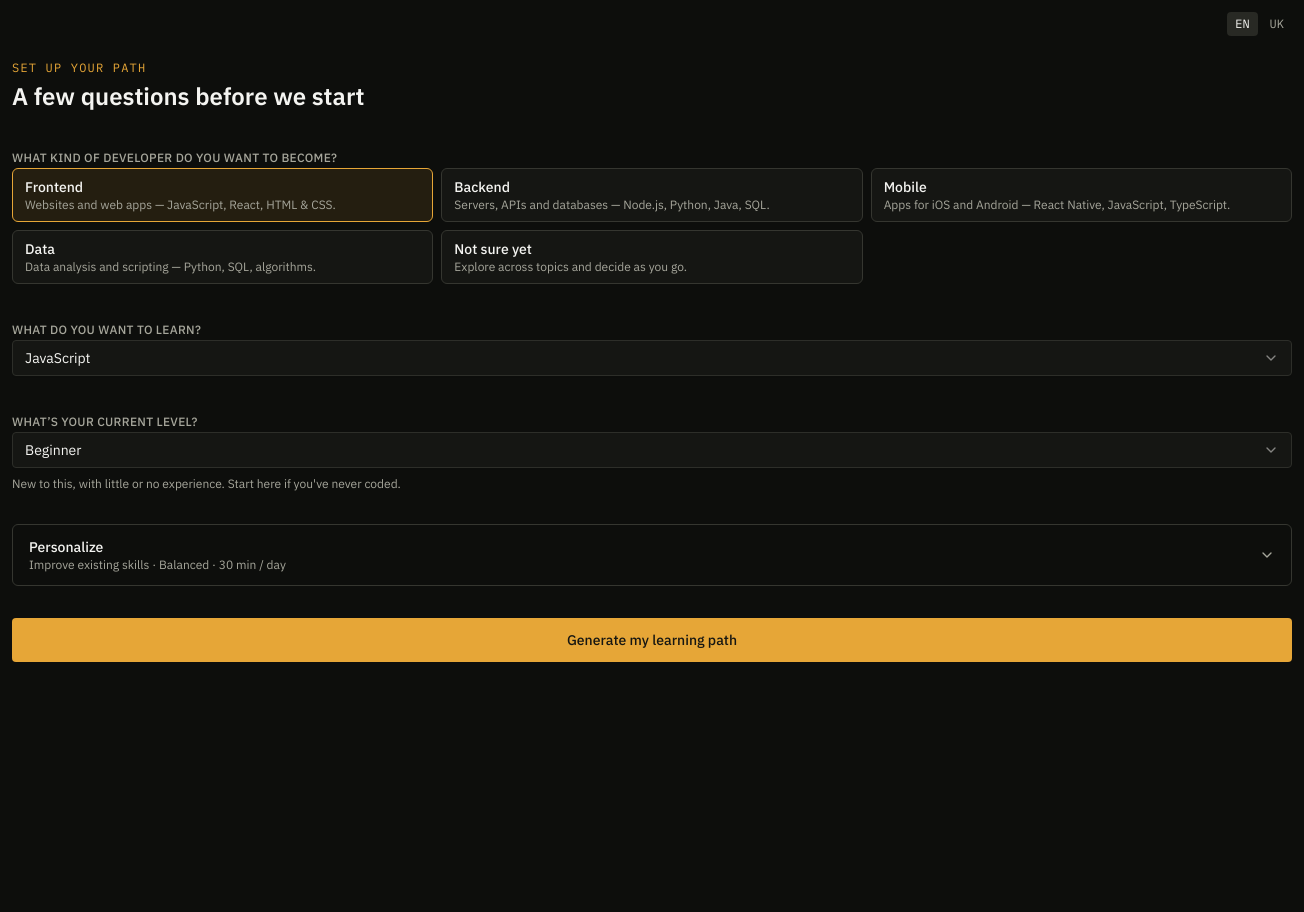
Test case: OnboardingFlow failure recovery › returns to the form with the error when the diagnostic can't be generated
The image size is (1304, 912).
Click the dropdown labelled "Beginner" at (53, 450), box [12,432,1292,468]
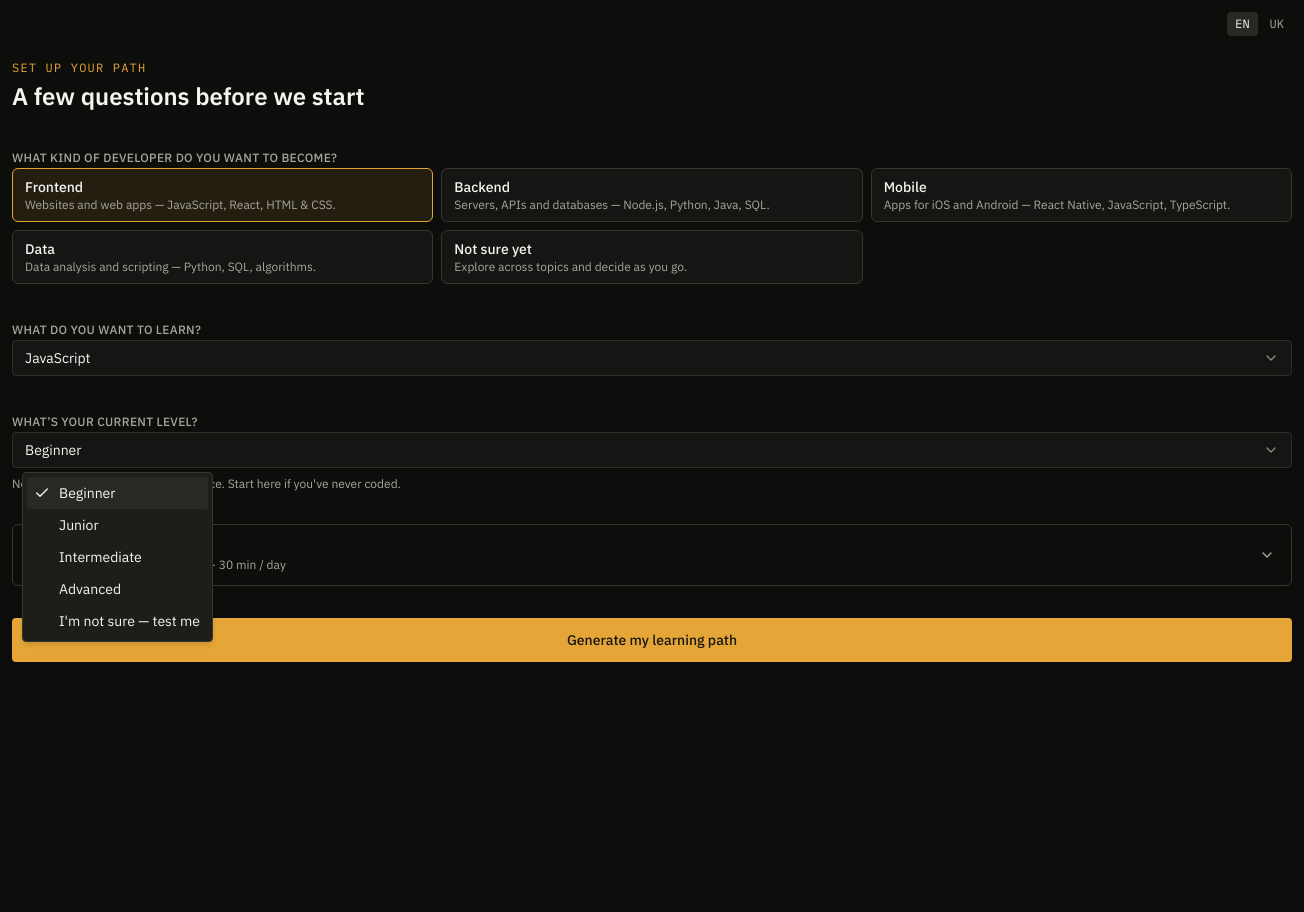
Click the option "I'm not sure — test me" at (130, 621), box [59,612,200,630]
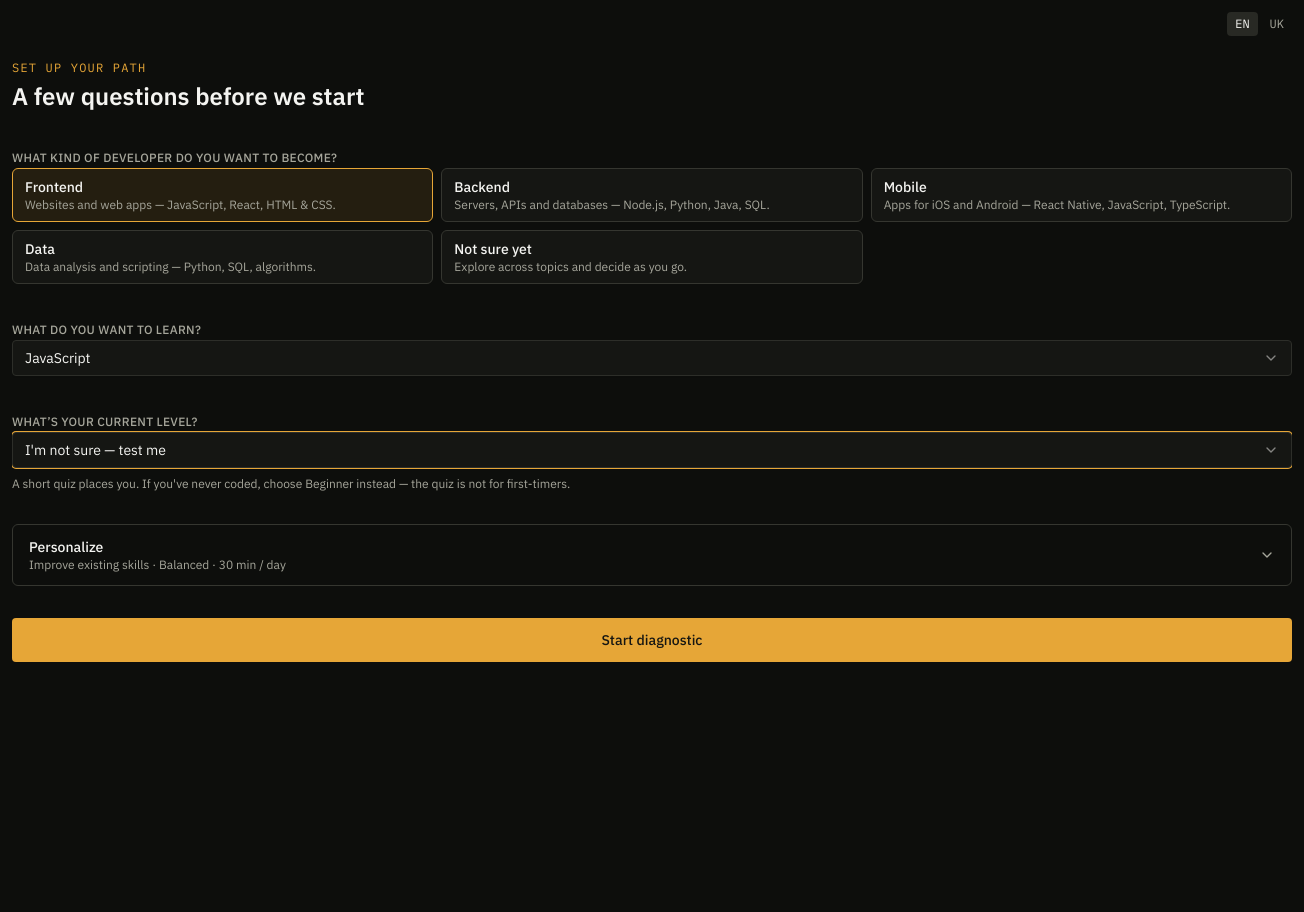
Expected: the list is gone
Click the button "Start diagnostic" at (652, 640), box [12,618,1292,662]
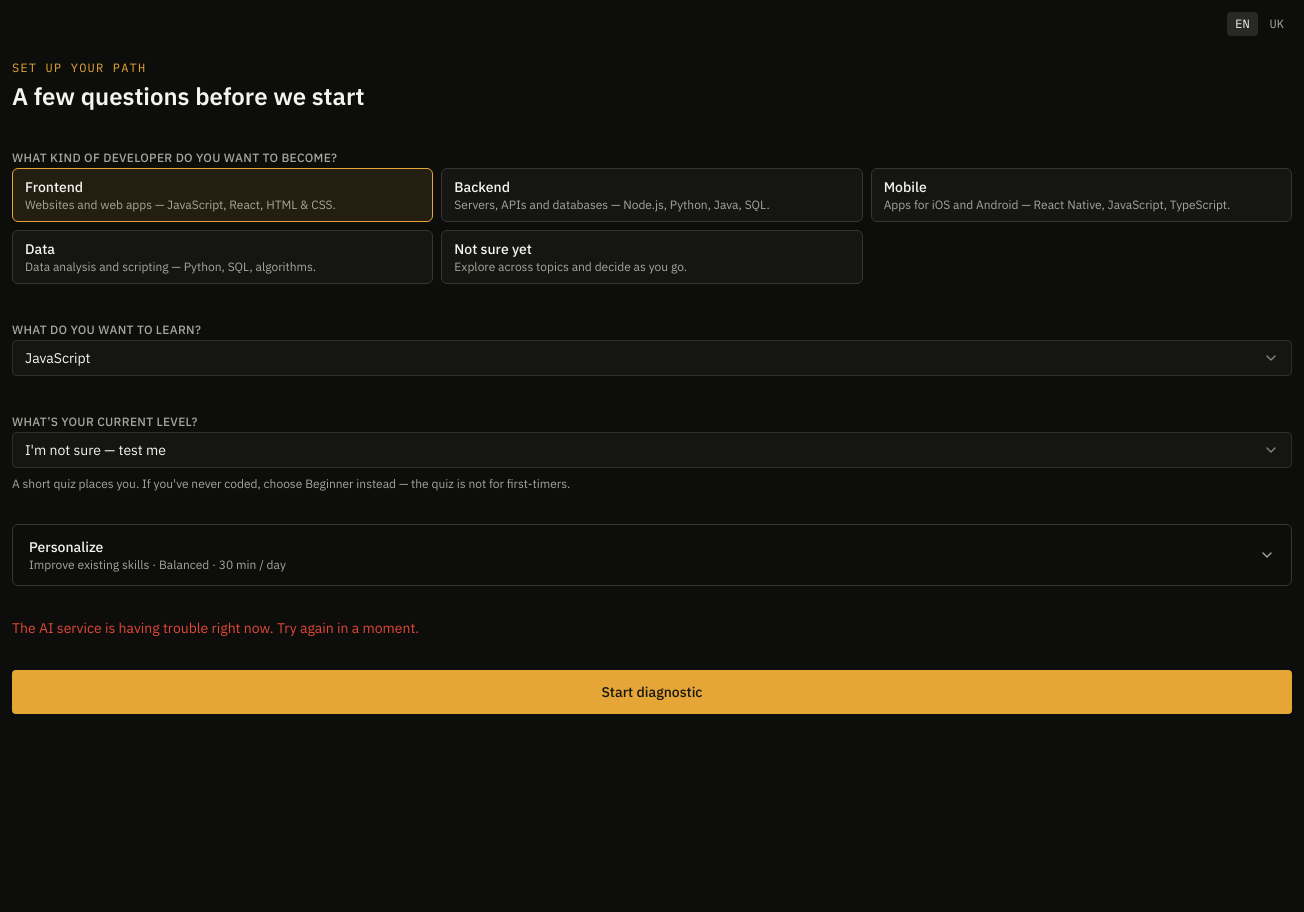
Expected: the button "Start diagnostic" is shown, [12,670,1292,714]
Expected: the text "The AI service is having trouble right now. Try again in a moment." is shown, [12,619,419,637]
